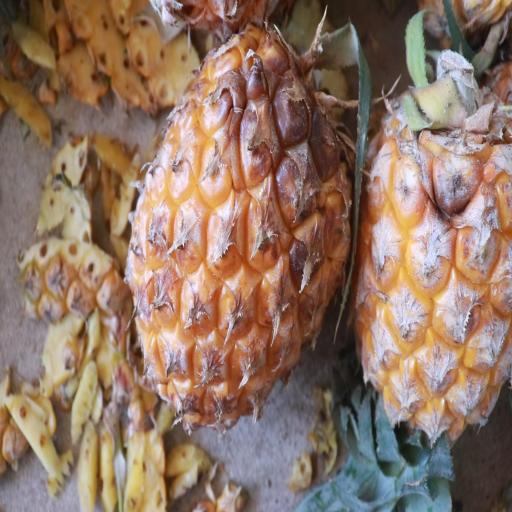Pineapple - v8 v1: (122, 16, 357, 441), (345, 43, 512, 487)
